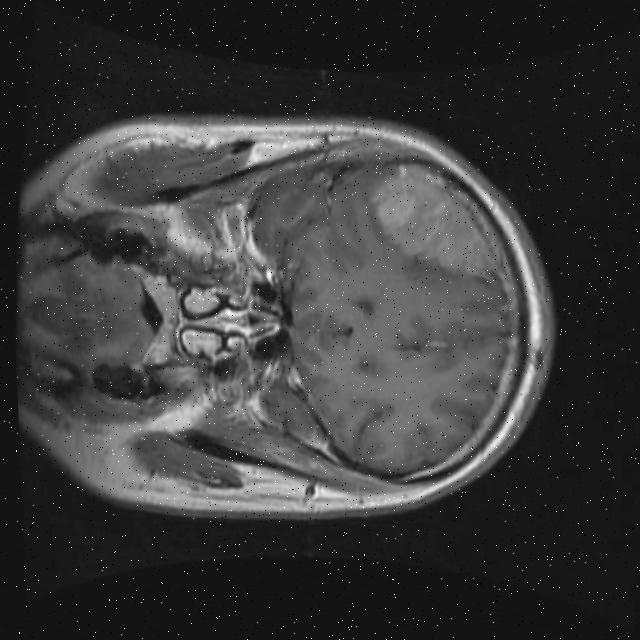Meningioma: (359, 156, 512, 287)
